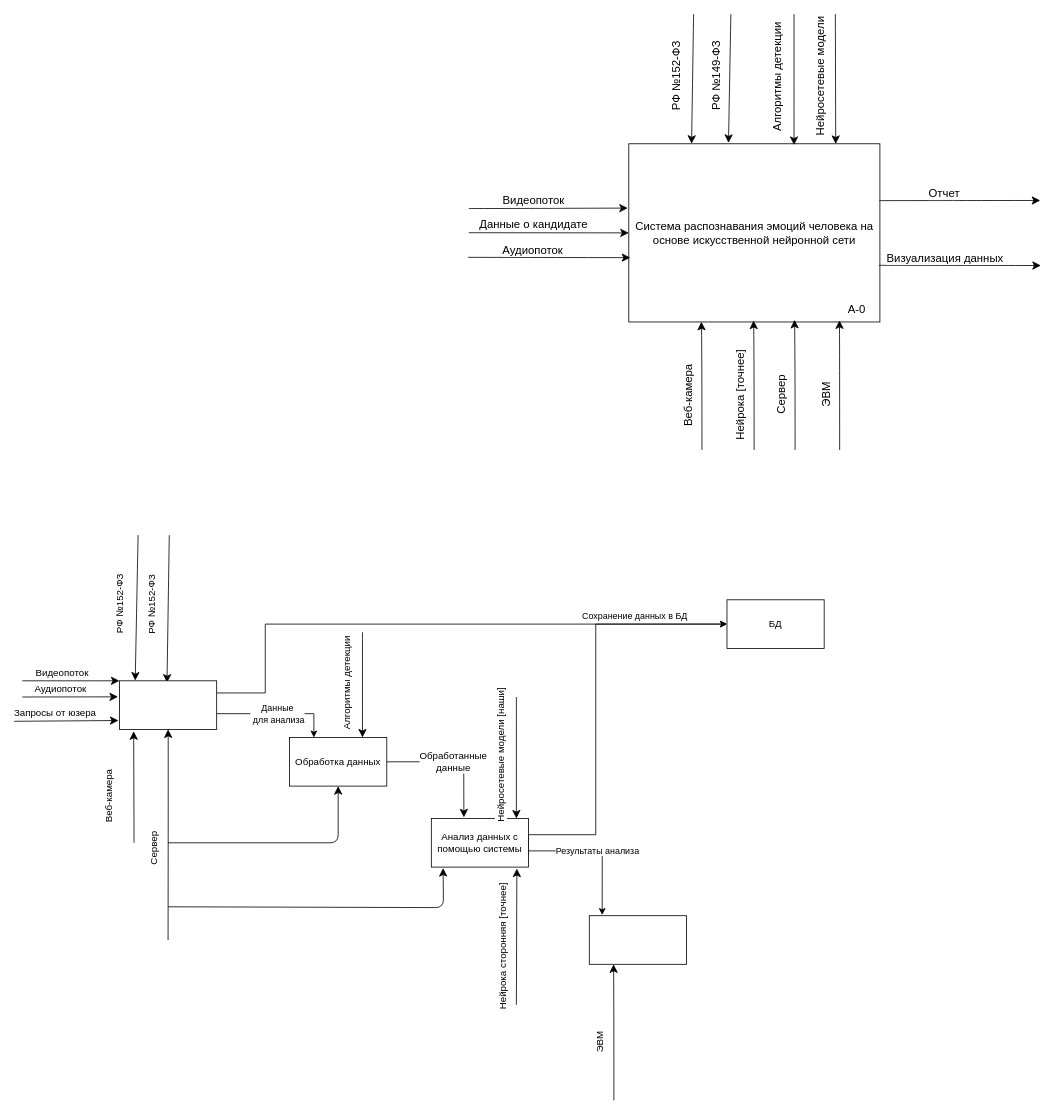
This 1055x1115 diagram has some shape labels left out. The shapes that lost their labels are listed below. From the top down, each one's centre as x and y in pixels, then its label:
[168,704]: Сбор данных
[637,939]: Интерпретация данных и формирование отчета
